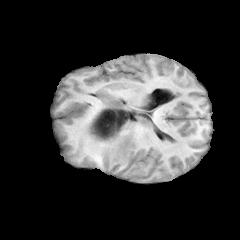glioma: (88, 99, 138, 166)
